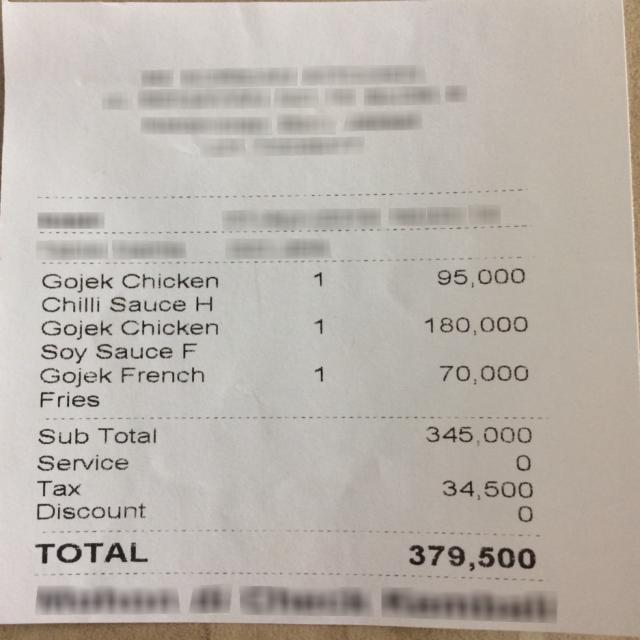text: (407, 544, 535, 573), (33, 541, 147, 562), (35, 500, 144, 520), (423, 315, 528, 334), (426, 425, 532, 443), (119, 317, 217, 336), (441, 479, 532, 499), (437, 268, 524, 288), (439, 364, 526, 384), (119, 364, 203, 384), (38, 367, 111, 388), (122, 272, 217, 288), (40, 318, 111, 339), (94, 341, 171, 360), (41, 272, 111, 292), (37, 454, 127, 469), (40, 296, 103, 314), (110, 296, 184, 311), (40, 343, 92, 362), (97, 426, 154, 443), (39, 391, 97, 406), (36, 428, 88, 443), (35, 479, 80, 496), (516, 504, 532, 523), (515, 454, 530, 471), (194, 296, 210, 310), (180, 343, 196, 357), (314, 318, 324, 335), (314, 365, 323, 383), (312, 272, 323, 286)
